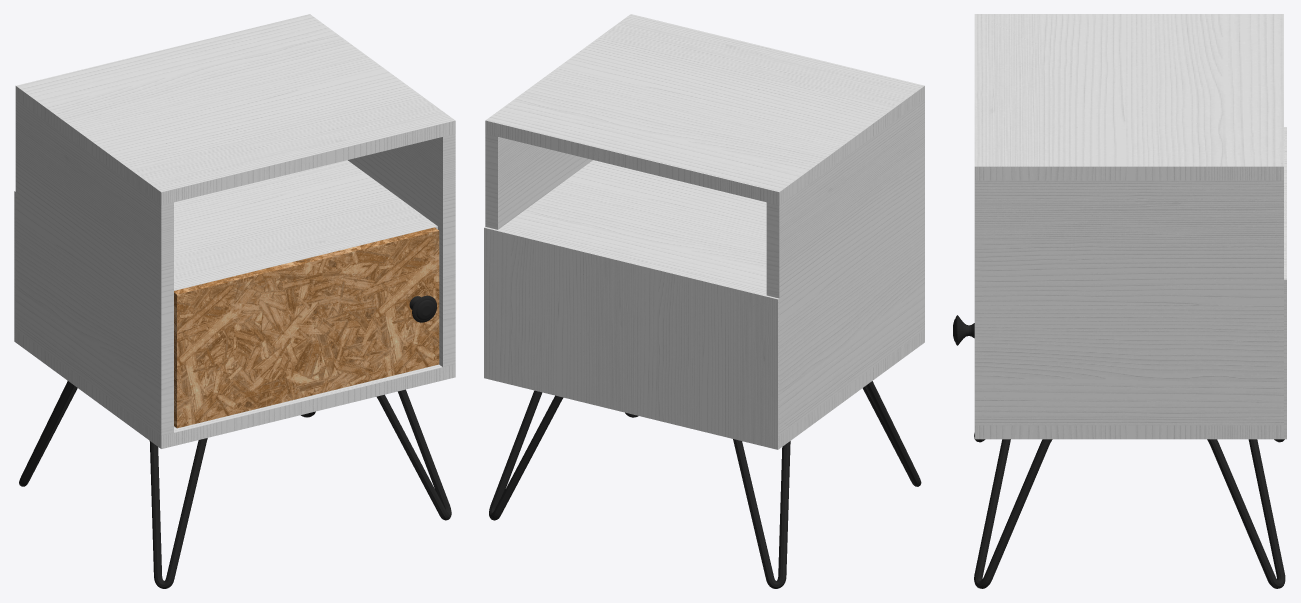
File: MaderKit_Demo.gltf
The picture shows the model from 3 angles, left to right: view 1: azimuth 30°, elevation 25°; view 2: azimuth 150°, elevation 25°; view 3: azimuth 270°, elevation 25°; orthographic projection. The views are drawn at different scales.
Visible parts, largest first — view 1: MaderKit_Demo; view 2: MaderKit_Demo; view 3: MaderKit_Demo.
Part boxes in pixels (x1,y1,x2,y2): MaderKit_Demo: (14, 14, 455, 588); MaderKit_Demo: (484, 14, 924, 588); MaderKit_Demo: (953, 14, 1286, 588).
Bounding box in the file's own units: 0.3514 × 0.4545 × 0.3237.
3 materials, 2 textured.
